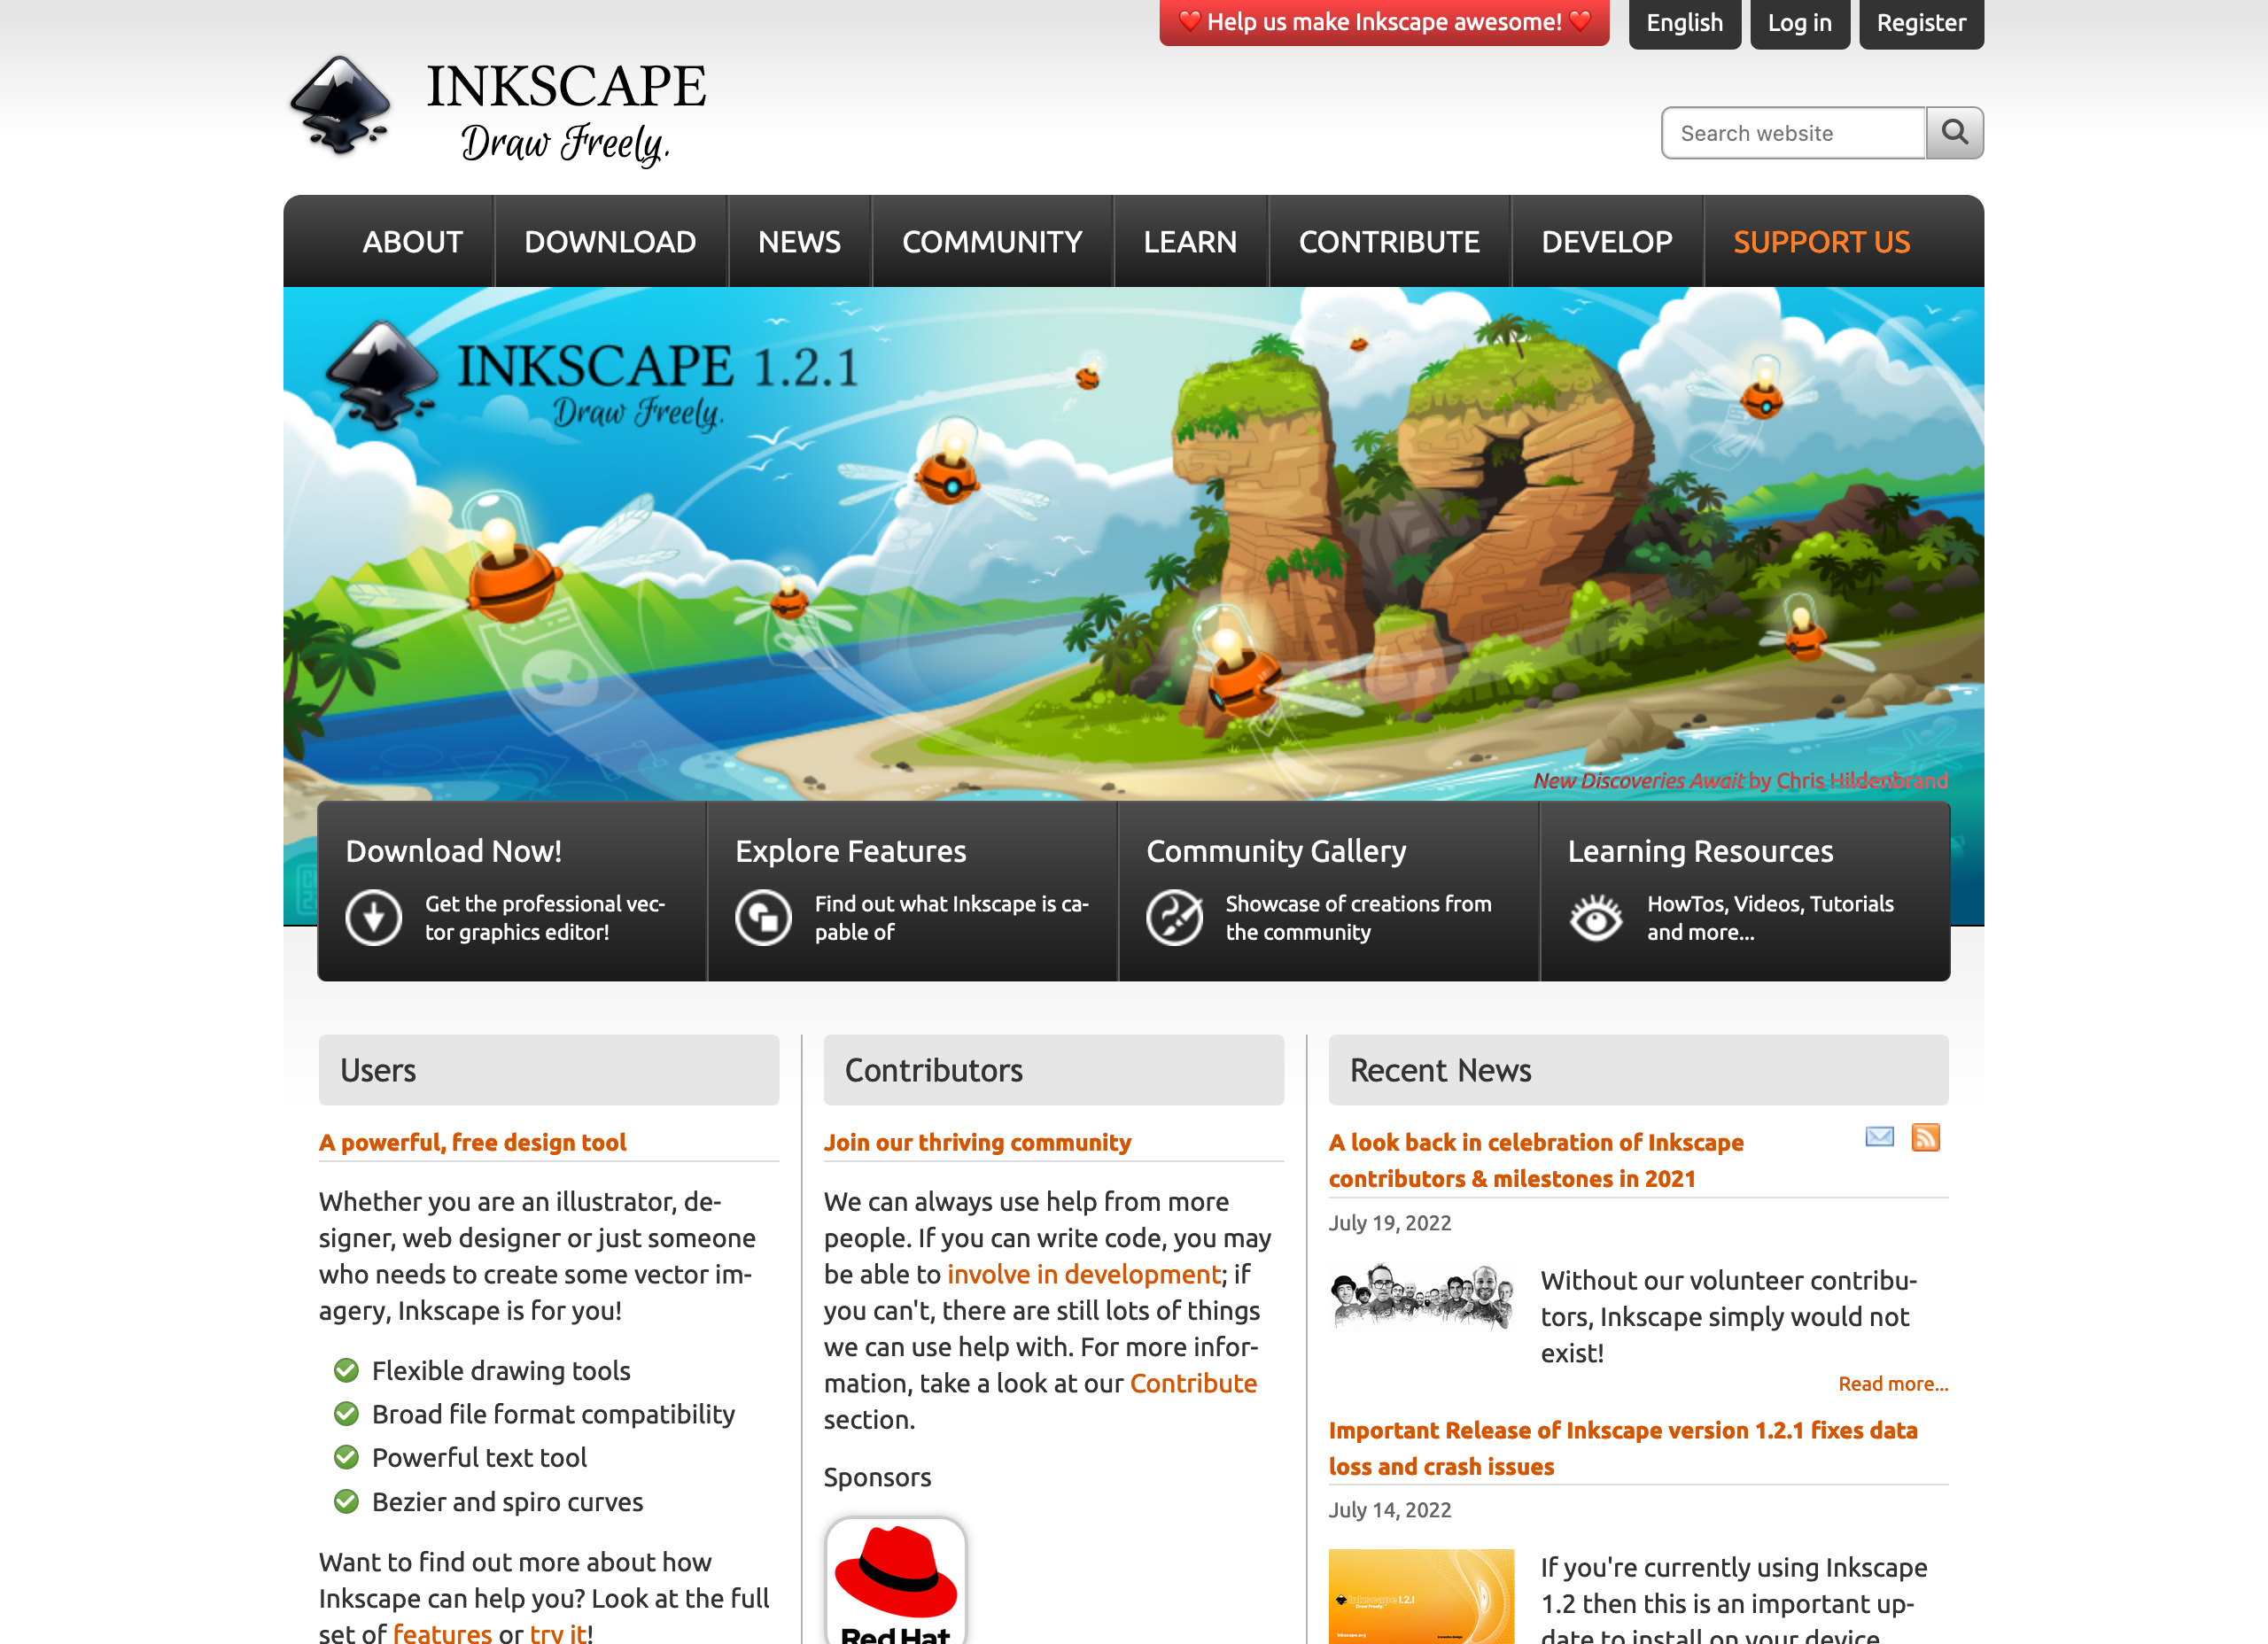Login: (1757, 5, 1845, 44)
